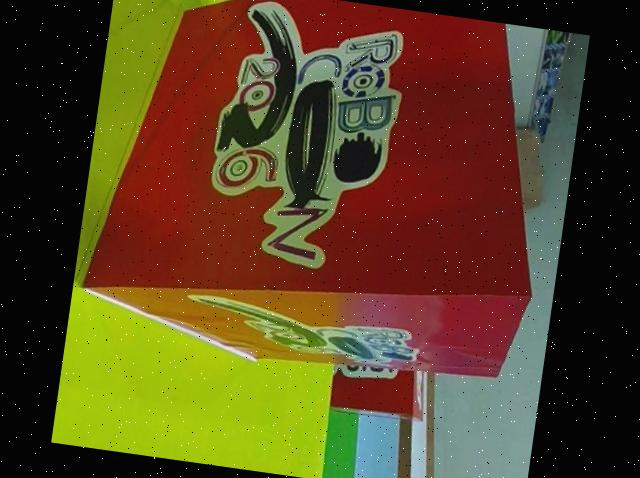R1: (72, 0, 571, 394)
